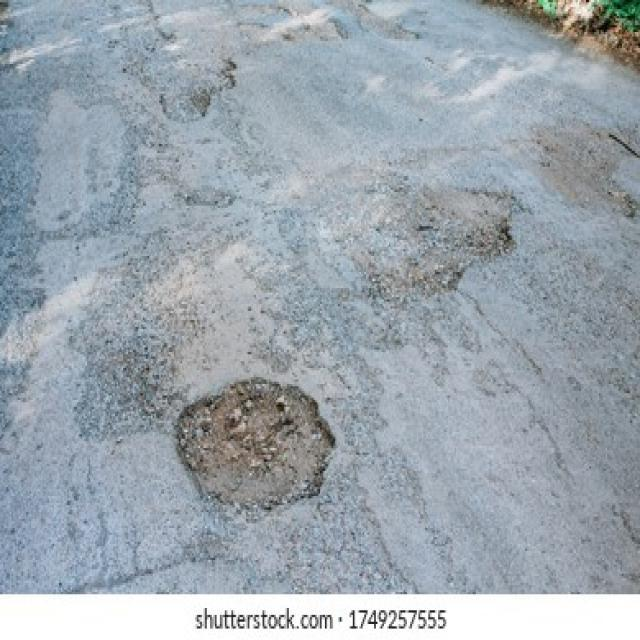Pothole: (337, 180, 526, 318), (174, 375, 340, 519), (535, 119, 640, 224), (161, 48, 238, 128)
